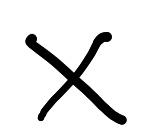mult: (25, 33, 127, 125)
